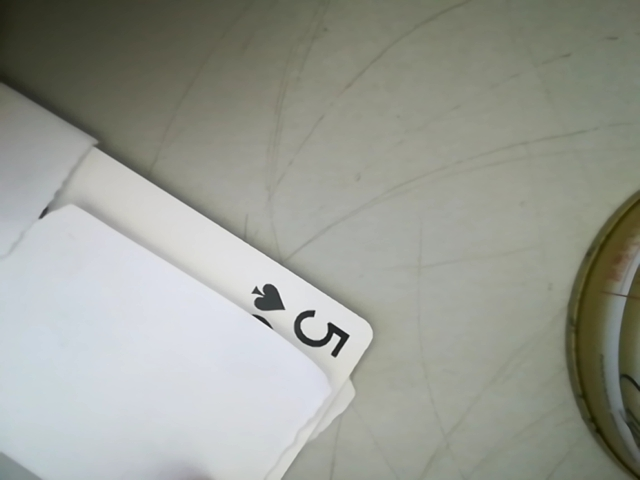ht 5: (243, 280, 361, 360)
